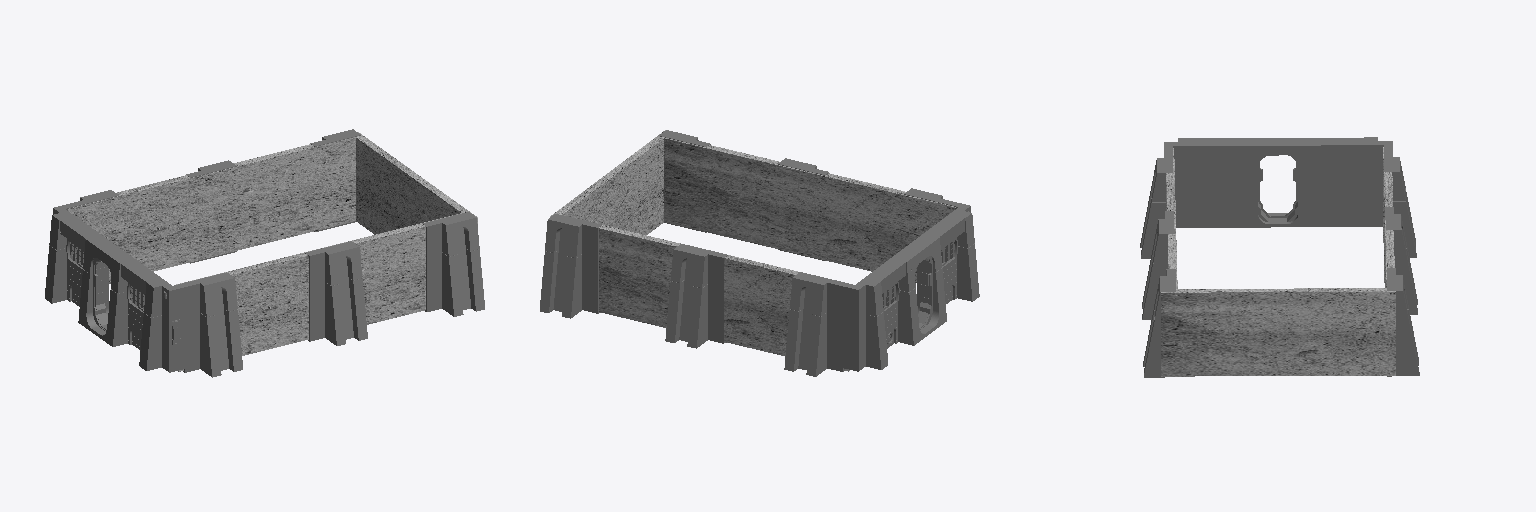
3 renders of one model, left to right at view 1: azimuth 30°, elevation 25°; view 2: azimuth 150°, elevation 25°; view 3: azimuth 270°, elevation 25°, orthographic.
Visible parts, largest first — view 1: CASADIN; view 2: CASADIN; view 3: CASADIN.
Part boxes in pixels (bbox=[...]): CASADIN: bbox=[45, 129, 484, 377]; CASADIN: bbox=[540, 130, 979, 376]; CASADIN: bbox=[1140, 137, 1419, 377].
Bounding box in the file's own units: 8.85 × 2.23 × 6.59.
Materials: 13 (1 with a texture image).